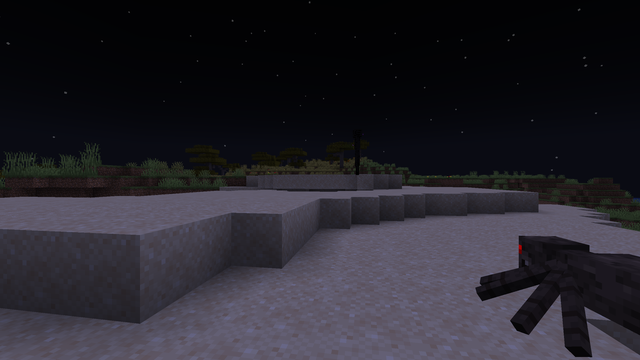araignees: (488, 228, 623, 354)
endermens: (352, 127, 361, 173)
